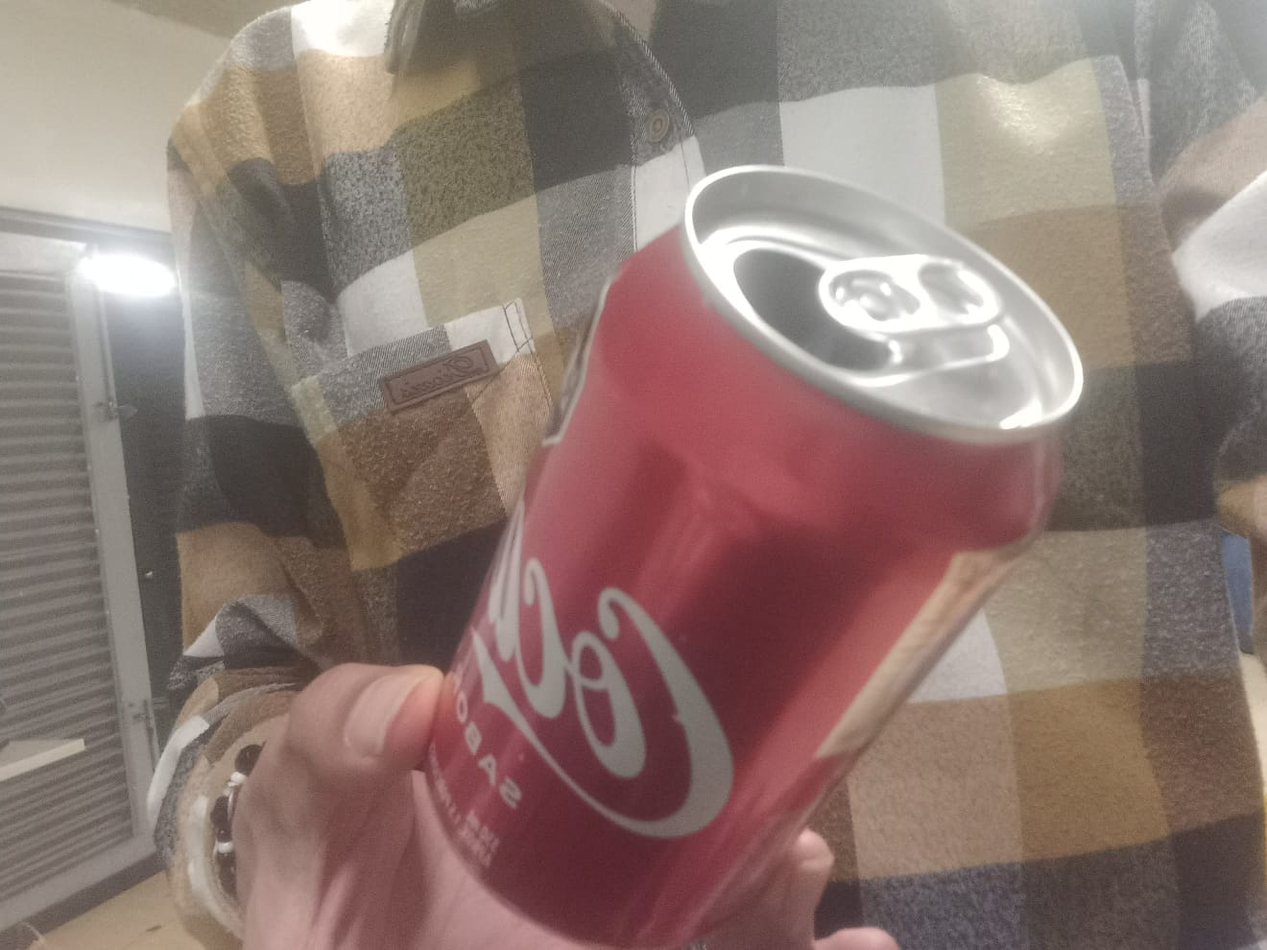Metal: (423, 168, 1083, 950)
